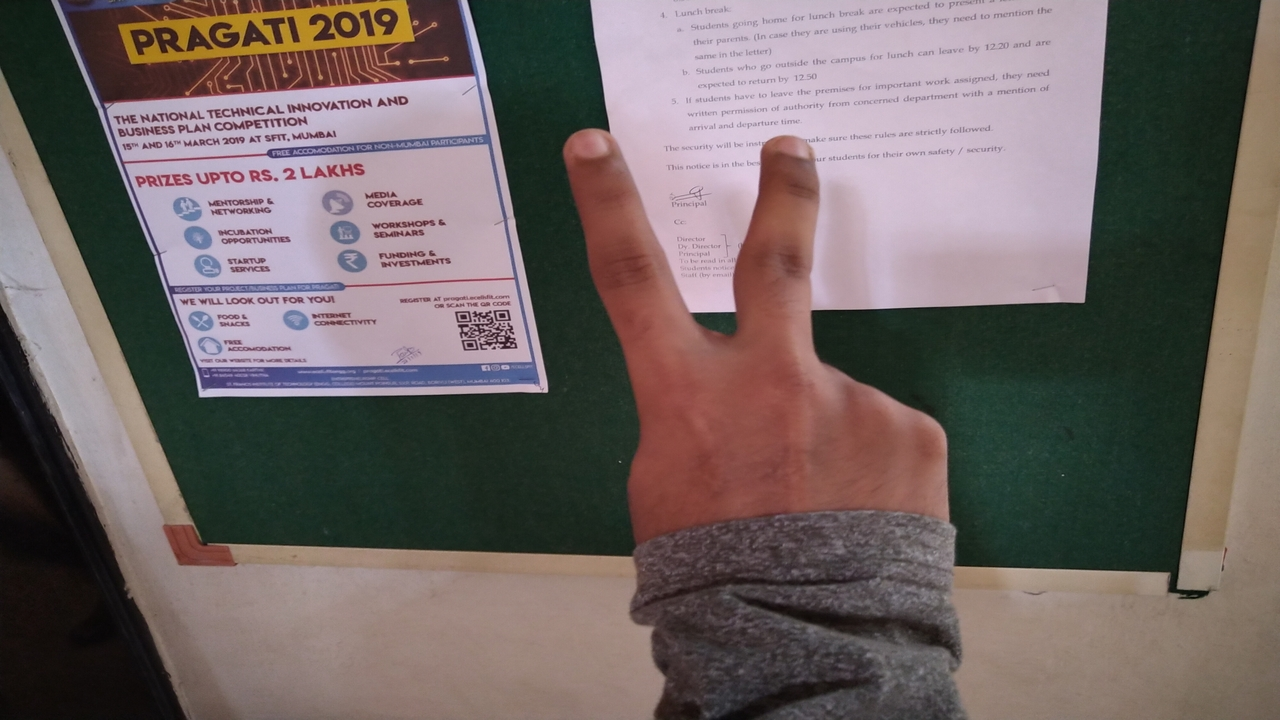fingertip: (554, 122, 624, 180), (756, 136, 824, 192)
